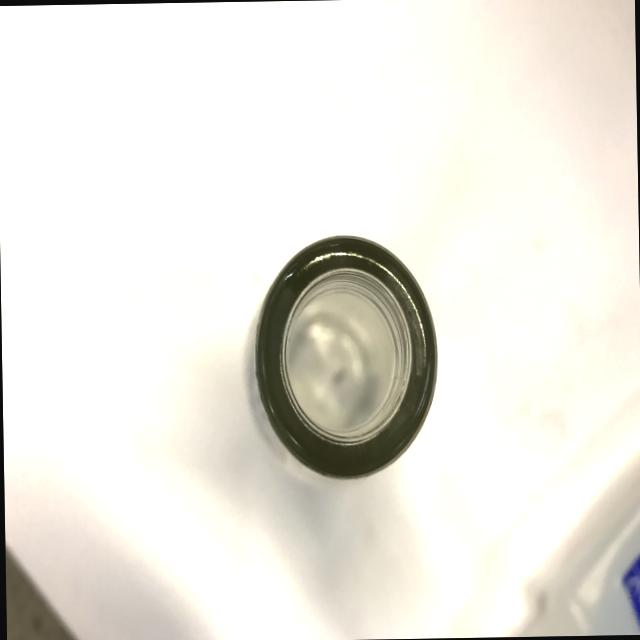Glass: (228, 222, 448, 493)
